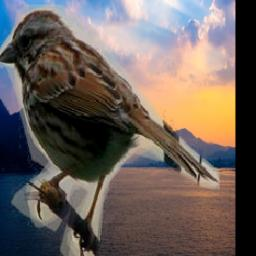Sparrow: (0, 4, 220, 256)
